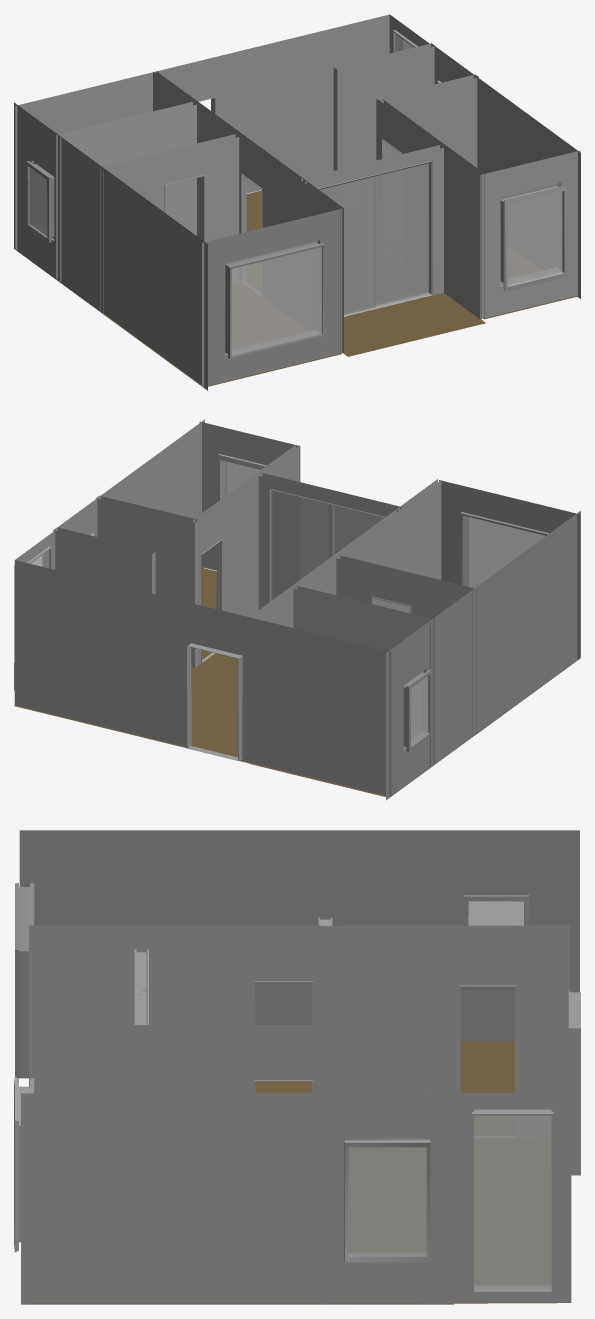
The model's file is Apartment.fbx.
3 renders of one model, top to bottom at view 1: azimuth 30°, elevation 25°; view 2: azimuth 150°, elevation 25°; view 3: azimuth 270°, elevation 25°, orthographic. The views are drawn at different scales.
Visible parts, largest first — view 1: GA2:WallsWindowWall_Bathroom, GA2:BackWallWalls, GA2:WallsWindowWall_MainBedroom, GA2:WallsWindowWallSmallRoom, GA2:WallsWindowWall_LivingArea, GA2:WallsDoorWall_MainBedroom, GA2:GlassWindowsGlassWindow_MainBedroom, GA2:WallsDoorWall_SmallBedroom, GA2:WallsDoorWall_BedroomBathroom, GA2:SlidingGlassDoorSlidingDoor_02, GA2:WallsWall_02, GA2:WallsWall_BetweenBathrooms (+11 smaller); view 2: GA2:BackWallWalls, GA2:WallsWindowWall_Bathroom, GA2:WallsDoorWall_SmallBedroom, GA2:WallsWall_01, GA2:WallsWall_BetweenBathrooms, GA2:WallsWindowWall_MainBedroom, GA2:WallsWindowWall_LivingArea, GA2:WallsDoorWall_MainBedroom, GA2:SlidingGlassDoorSlidingDoor_02, GA2:WallsDoorWall_BedroomBathroom, GA2:FloorsFloor_LivingArea, GA2:WallsWall_02 (+9 smaller); view 3: GA2:WallsWindowWall_LivingArea, GA2:WallsWindowWall_Bathroom, GA2:WallsDoorWall_Bathroom, GA2:WallsDoorWall_MainBedroom, GA2:FloorsFloor_LivingArea, GA2:WallsDoorWall_SmallBedroom, GA2:GlassWindowsGlassWindow_Kitchen, GA2:WallsWindowWall_Kitchen, GA2:GlassWindowsGlassWindow_LivingArea, GA2:Floor_BathroomFloors, GA2:WallsWall_02, GA2:WallsWindowWall_MainBedroom (+6 smaller).
Boxes of the visible parts, left/top/right/bottom form: GA2:WallsWindowWall_Bathroom: left=14, top=102, right=207, bottom=390; GA2:BackWallWalls: left=15, top=14, right=389, bottom=249; GA2:WallsWindowWall_MainBedroom: left=202, top=209, right=342, bottom=386; GA2:WallsWindowWallSmallRoom: left=480, top=150, right=580, bottom=319; GA2:WallsWindowWall_LivingArea: left=431, top=43, right=580, bottom=298; GA2:WallsDoorWall_MainBedroom: left=238, top=133, right=343, bottom=354; GA2:GlassWindowsGlassWindow_MainBedroom: left=231, top=247, right=321, bottom=355; GA2:WallsDoorWall_SmallBedroom: left=379, top=99, right=484, bottom=319; GA2:WallsDoorWall_BedroomBathroom: left=100, top=134, right=239, bottom=313; GA2:SlidingGlassDoorSlidingDoor_02: left=375, top=163, right=428, bottom=305; GA2:WallsWall_02: left=333, top=43, right=434, bottom=170; GA2:WallsWall_BetweenBathrooms: left=56, top=101, right=198, bottom=281; GA2:BackWallWalls: left=15, top=560, right=391, bottom=796; GA2:WallsWindowWall_Bathroom: left=386, top=511, right=580, bottom=800; GA2:WallsDoorWall_SmallBedroom: left=193, top=444, right=299, bottom=666; GA2:WallsWall_01: left=95, top=495, right=198, bottom=667; GA2:WallsWall_BetweenBathrooms: left=292, top=585, right=434, bottom=766; GA2:WallsWindowWall_MainBedroom: left=439, top=480, right=579, bottom=659; GA2:WallsWindowWall_LivingArea: left=54, top=419, right=204, bottom=567; GA2:WallsDoorWall_MainBedroom: left=335, top=479, right=441, bottom=613; GA2:SlidingGlassDoorSlidingDoor_02: left=271, top=490, right=334, bottom=600; GA2:WallsDoorWall_BedroomBathroom: left=336, top=555, right=476, bottom=736; GA2:FloorsFloor_LivingArea: left=14, top=653, right=250, bottom=763; GA2:WallsWall_02: left=53, top=527, right=155, bottom=594; GA2:WallsWindowWall_LivingArea: left=21, top=1093, right=454, bottom=1304; GA2:WallsWindowWall_Bathroom: left=19, top=830, right=579, bottom=1041; GA2:WallsDoorWall_Bathroom: left=324, top=925, right=569, bottom=1137; GA2:WallsDoorWall_MainBedroom: left=29, top=925, right=323, bottom=1093; GA2:FloorsFloor_LivingArea: left=328, top=1138, right=571, bottom=1304; GA2:WallsDoorWall_SmallBedroom: left=29, top=1025, right=323, bottom=1093; GA2:GlassWindowsGlassWindow_Kitchen: left=473, top=1110, right=552, bottom=1290; GA2:WallsWindowWall_Kitchen: left=454, top=1093, right=570, bottom=1302; GA2:GlassWindowsGlassWindow_LivingArea: left=348, top=1147, right=426, bottom=1255; GA2:Floor_BathroomFloors: left=460, top=1041, right=514, bottom=1134; GA2:WallsWall_02: left=443, top=1025, right=454, bottom=1302; GA2:WallsWindowWall_MainBedroom: left=15, top=883, right=34, bottom=1078.
Bounding box in the file's own units: 22.49 × 8.2 × 19.91.
